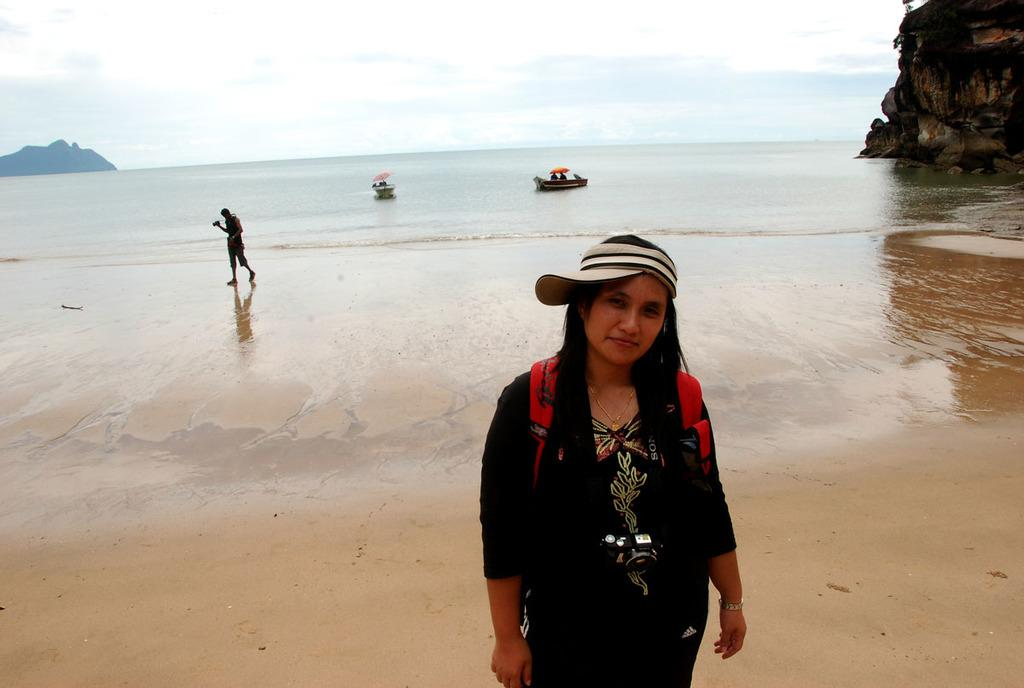Hat: (534, 229, 672, 308)
